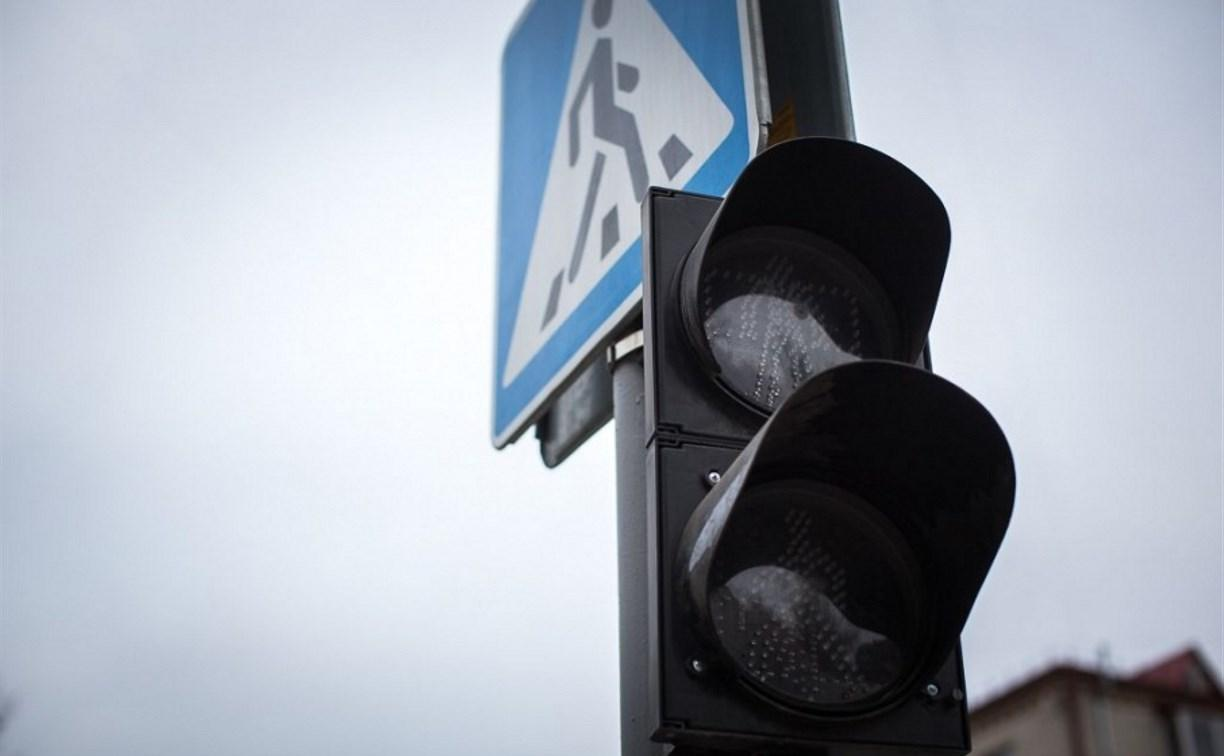off traffic light: (646, 138, 1015, 755)
road_sign: (491, 0, 760, 448)
